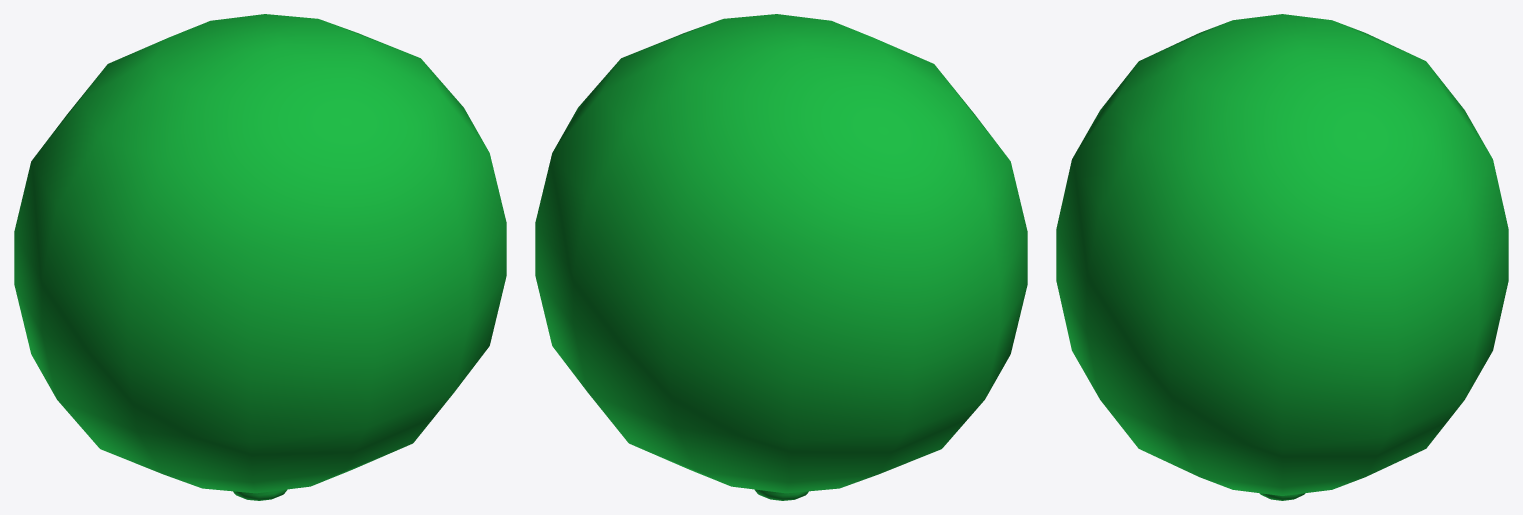
File: lechuga.fbx
3 views of the same model, side by side, from view 1: azimuth 30°, elevation 25°; view 2: azimuth 150°, elevation 25°; view 3: azimuth 270°, elevation 25° (orthographic).
Parts seen in each view (by area): view 1: Cylinder.034; view 2: Cylinder.034; view 3: Cylinder.034.
Part boxes in pixels (x1=…): Cylinder.034: x1=14, y1=14, x2=506, y2=500; Cylinder.034: x1=535, y1=14, x2=1027, y2=500; Cylinder.034: x1=1056, y1=14, x2=1508, y2=500.
Size of the model in its own units: 119 by 117 by 108.
